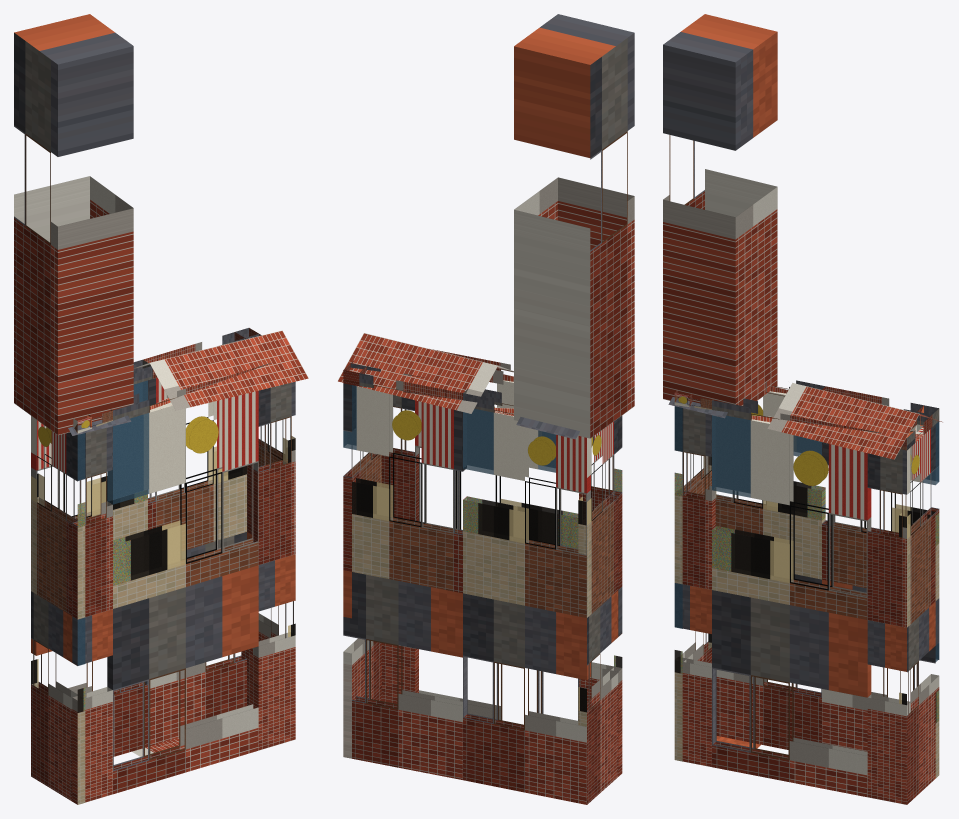
3 renders of one model, left to right at view 1: azimuth 30°, elevation 25°; view 2: azimuth 150°, elevation 25°; view 3: azimuth 330°, elevation 25°, orthographic. The views are drawn at different scales.
Parts seen in each view (by area): view 1: 1132023214__chimney_0_xb, 1132023214__wall_2_xb, 1132023214__wall_0_xb, 1132023214__wall_5_xb, 1132023214__wall_3_xb, 1132023214__wall_1_xb, 1132023214_roof_-1_xb, 1132023214__wall_2_xf, 1132023214__wall_6_xb, 1132023214__wall_4_xb, 1132023214__wall_0_xf, 1132023214__cornice_2 (+2 smaller); view 2: 1132023214__chimney_0_xb, 1132023214__wall_6_xb, 1132023214__wall_5_xb, 1132023214__wall_0_xb, 1132023214_roof_1_xb, 1132023214__wall_4_xb, 1132023214__wall_2_xb, 1132023214__wall_3_xb, 1132023214__wall_6_xf, 1132023214__wall_1_xb, 1132023214__wall_5_xf, 1132023214__wall_2_xf (+3 smaller); view 3: 1132023214__chimney_0_xb, 1132023214__wall_2_xb, 1132023214__wall_6_xb, 1132023214__wall_3_xb, 1132023214__wall_1_xb, 1132023214__wall_4_xb, 1132023214__wall_5_xb, 1132023214_roof_-1_xb, 1132023214__wall_2_xf, 1132023214__wall_0_xb, 1132023214__wall_6_xf, 1132023214__cornice_2 (+3 smaller).
Part boxes in pixels (<box>): 1132023214__chimney_0_xb: <box>14,14,133,434</box>; 1132023214__wall_2_xb: <box>107,390,258,794</box>; 1132023214__wall_0_xb: <box>31,416,85,804</box>; 1132023214__wall_5_xb: <box>148,377,246,745</box>; 1132023214__wall_3_xb: <box>253,381,295,750</box>; 1132023214__wall_1_xb: <box>72,426,112,804</box>; 1132023214_roof_-1_xb: <box>68,330,308,435</box>; 1132023214__wall_2_xf: <box>107,413,209,585</box>; 1132023214__wall_6_xb: <box>31,380,147,756</box>; 1132023214__wall_4_xb: <box>241,417,295,705</box>; 1132023214__wall_0_xf: <box>31,433,84,712</box>; 1132023214__cornice_2: <box>113,367,258,420</box>; 1132023214__chimney_0_xb: <box>514,14,634,438</box>; 1132023214__wall_6_xb: <box>463,409,590,804</box>; 1132023214__wall_5_xb: <box>343,385,466,779</box>; 1132023214__wall_0_xb: <box>578,418,622,804</box>; 1132023214_roof_1_xb: <box>337,333,579,439</box>; 1132023214__wall_4_xb: <box>343,383,381,758</box>; 1132023214__wall_2_xb: <box>415,380,578,720</box>; 1132023214__wall_3_xb: <box>373,395,418,703</box>; 1132023214__wall_6_xf: <box>463,409,528,542</box>; 1132023214__wall_1_xb: <box>579,416,622,776</box>; 1132023214__wall_5_xf: <box>343,385,392,520</box>; 1132023214__wall_2_xf: <box>501,431,577,547</box>; 1132023214__chimney_0_xb: <box>663,14,777,405</box>; 1132023214__wall_2_xb: <box>712,415,871,797</box>; 1132023214__wall_6_xb: <box>704,391,825,749</box>; 1132023214__wall_3_xb: <box>867,449,910,804</box>; 1132023214__wall_1_xb: <box>675,406,715,766</box>; 1132023214__wall_4_xb: <box>899,422,939,804</box>; 1132023214__wall_5_xb: <box>822,421,939,778</box>; 1132023214_roof_-1_xb: <box>668,383,919,459</box>; 1132023214__wall_2_xf: <box>712,415,792,582</box>; 1132023214__wall_0_xb: <box>674,406,716,761</box>; 1132023214__wall_6_xf: <box>763,435,825,519</box>; 1132023214__cornice_2: <box>712,398,867,431</box>.
Size of the model in its own units: 0.4873 by 1.4 by 0.1826.
Materials: 1 (1 with a texture image).
